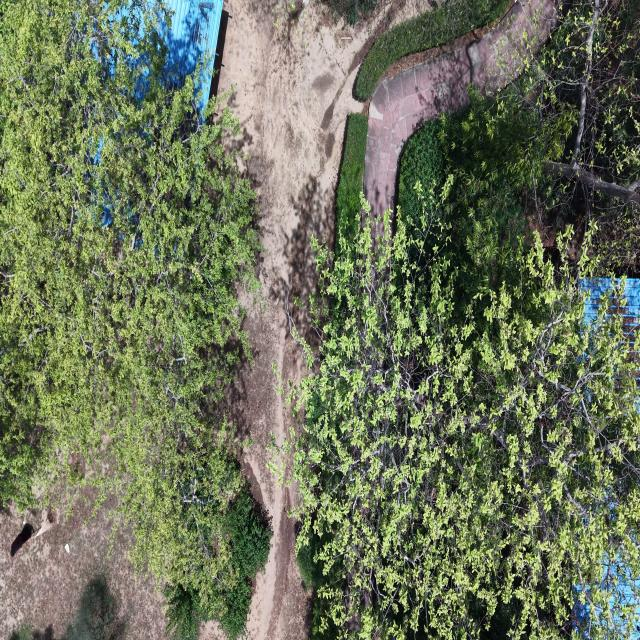DRY_AREA: (220, 0, 428, 639), (220, 0, 427, 639), (0, 502, 165, 639), (377, 18, 501, 84)
PATHWAYS: (364, 0, 555, 216)
ROOFTOP_BUILDING: (159, 0, 227, 114), (161, 0, 227, 115), (165, 0, 222, 112), (573, 552, 639, 639), (612, 278, 639, 359), (614, 278, 639, 322)
VEGETATION_TREE: (281, 0, 639, 639), (281, 0, 639, 638), (0, 0, 271, 637), (292, 213, 639, 638), (399, 0, 639, 271), (443, 0, 639, 272), (441, 0, 639, 269), (511, 0, 639, 271), (120, 430, 272, 639), (398, 89, 544, 262), (423, 90, 542, 265), (398, 89, 542, 217), (164, 483, 271, 639), (355, 0, 510, 101), (220, 488, 272, 637), (398, 119, 448, 219), (297, 529, 341, 639), (61, 575, 129, 639), (336, 113, 367, 251), (65, 575, 127, 639), (164, 586, 201, 639), (318, 0, 377, 25), (297, 536, 323, 589), (324, 0, 377, 24), (9, 626, 33, 639), (0, 0, 12, 14)
